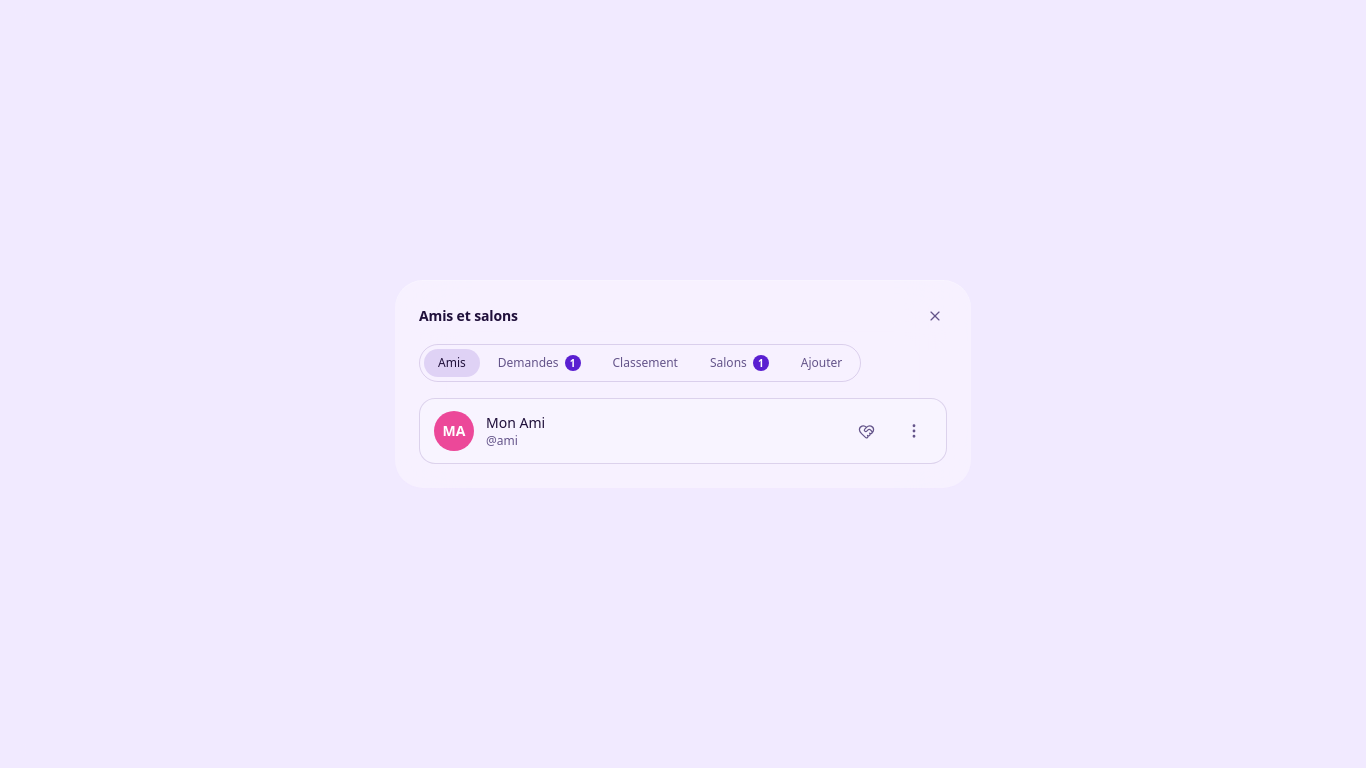
Test: SocialPanel — point d’entrée social unique (LOT H2, §1) › l’onglet « Classement » affiche LeaderboardTab
Click the tab "Classement" at [645, 363], box x1=598 y1=349 x2=692 y2=377
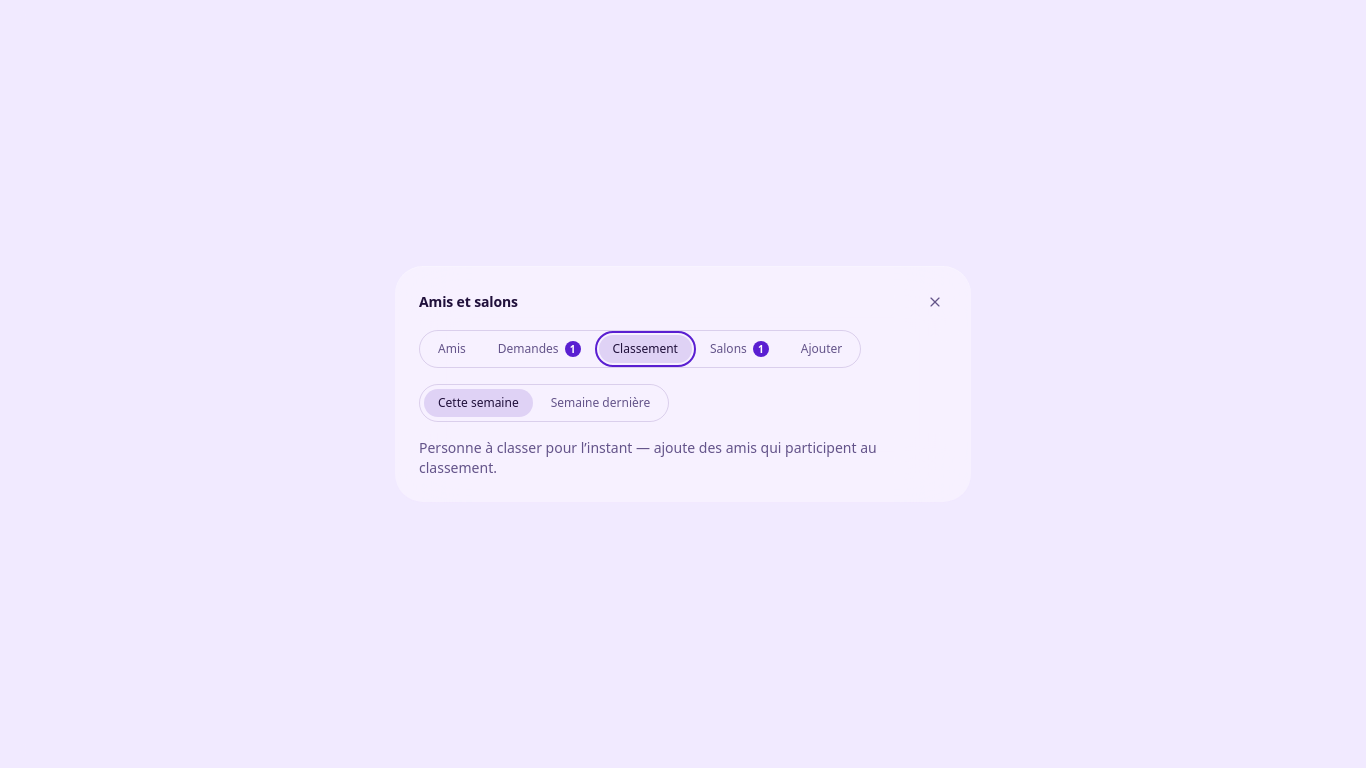
Now the text "Mon Ami" is gone
